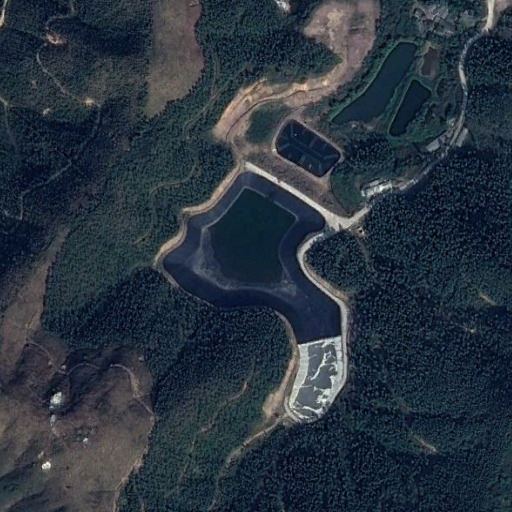lf: (162, 167, 344, 425)
